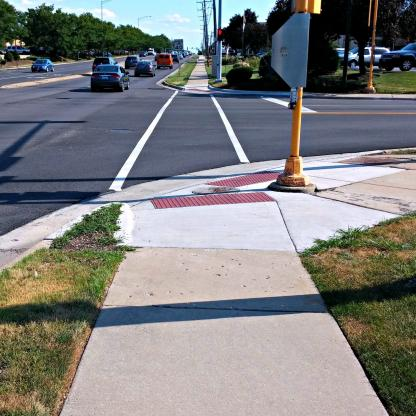Don-t Walk: (216, 29, 225, 41)
